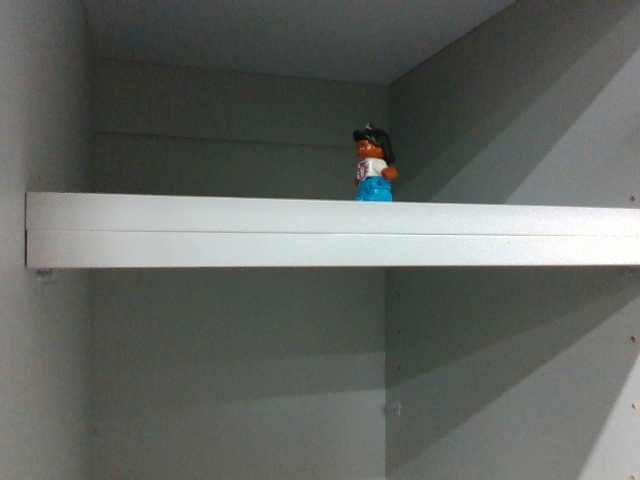people: (347, 122, 400, 205)
